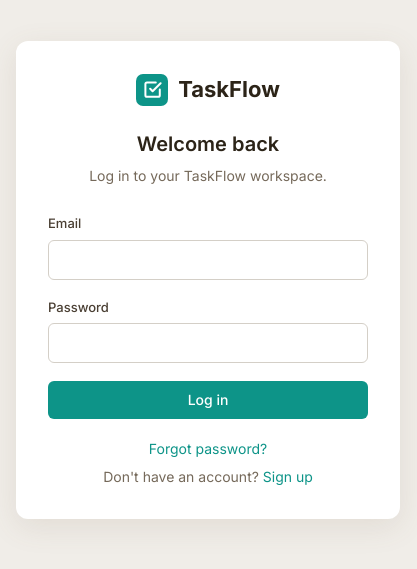
Test: LoginScreen › shows validation errors on empty submit
The image size is (417, 569).
Click the button "Log in": (208, 400) [48,381,368,419]
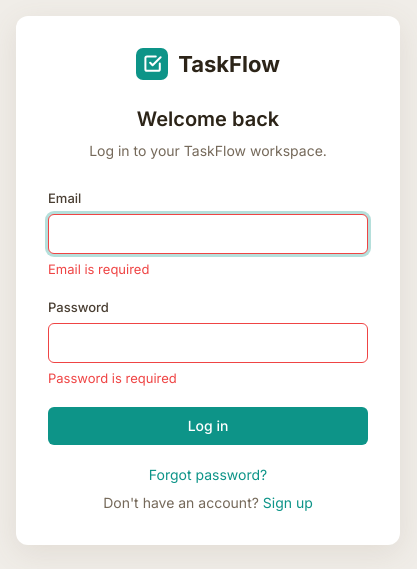
Expected: the text "Email is required" is shown, [48,261,149,277]
Expected: the text "Password is required" is shown, [48,370,177,386]
